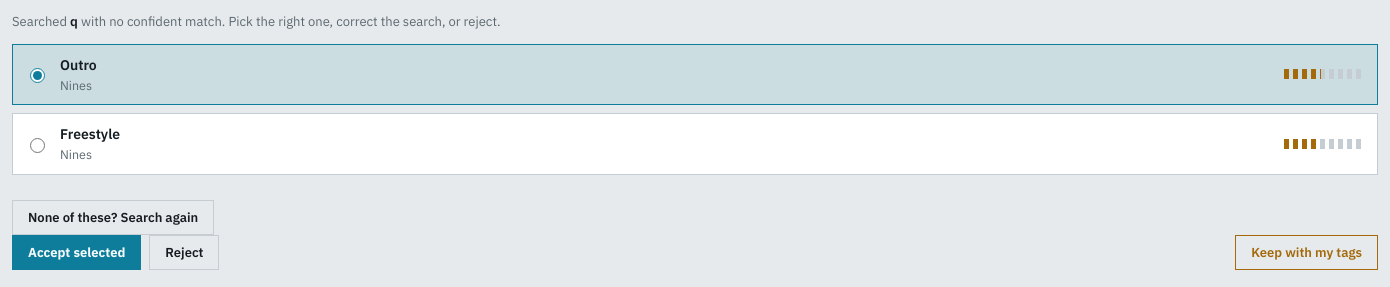
Test: keep-untagged — landing with manual tags › "Back" returns to the candidate view
This screenshot has width=1390, height=287.
Click the button "Keep with my tags" at x=1307, y=252, box [1235, 235, 1378, 270]
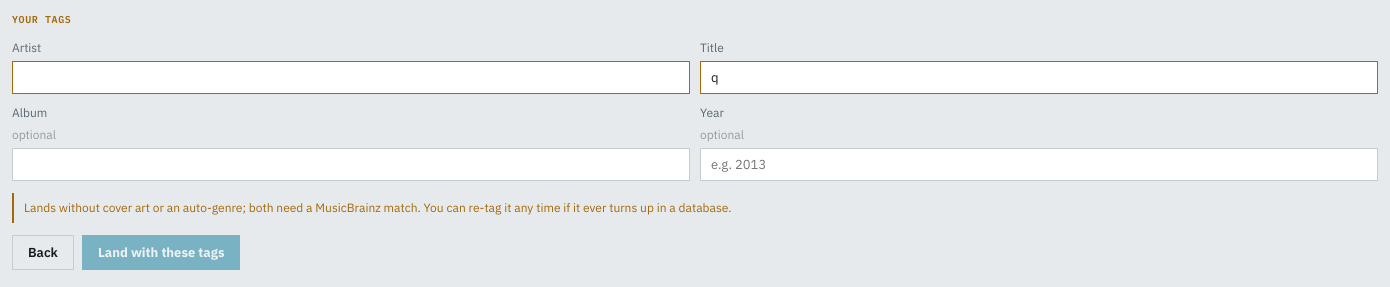
Click the button "Back" at x=43, y=252, box [12, 235, 74, 270]
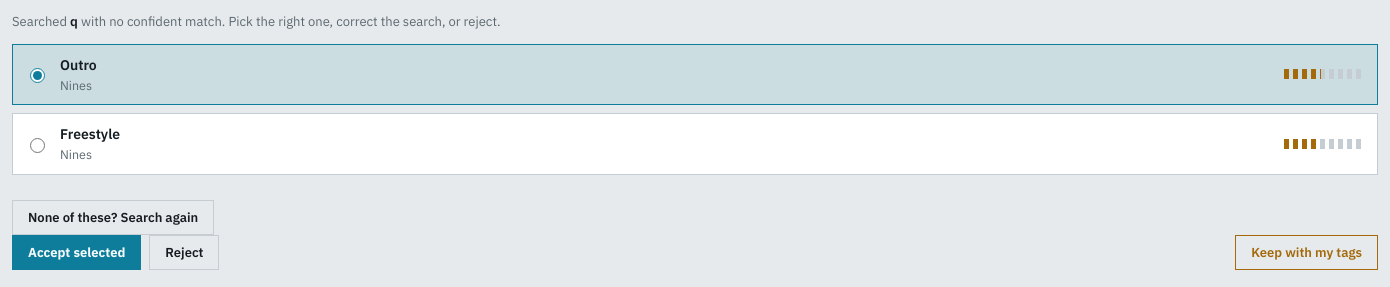
Expected: the list is shown, [12, 44, 1378, 175]
